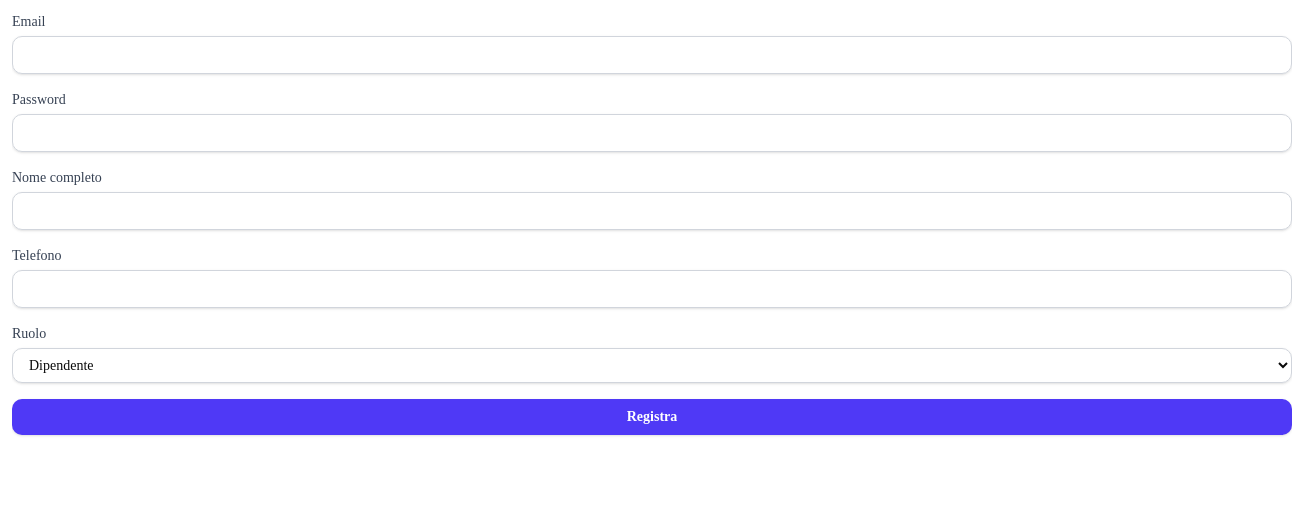
it: RegisterPage / RegisterForm › submit — success › shows a success banner after successful registration
The image size is (1304, 507).
Type "mario@example.com" into the field labelled "Email" at (652, 55), box [12,36,1292,74]
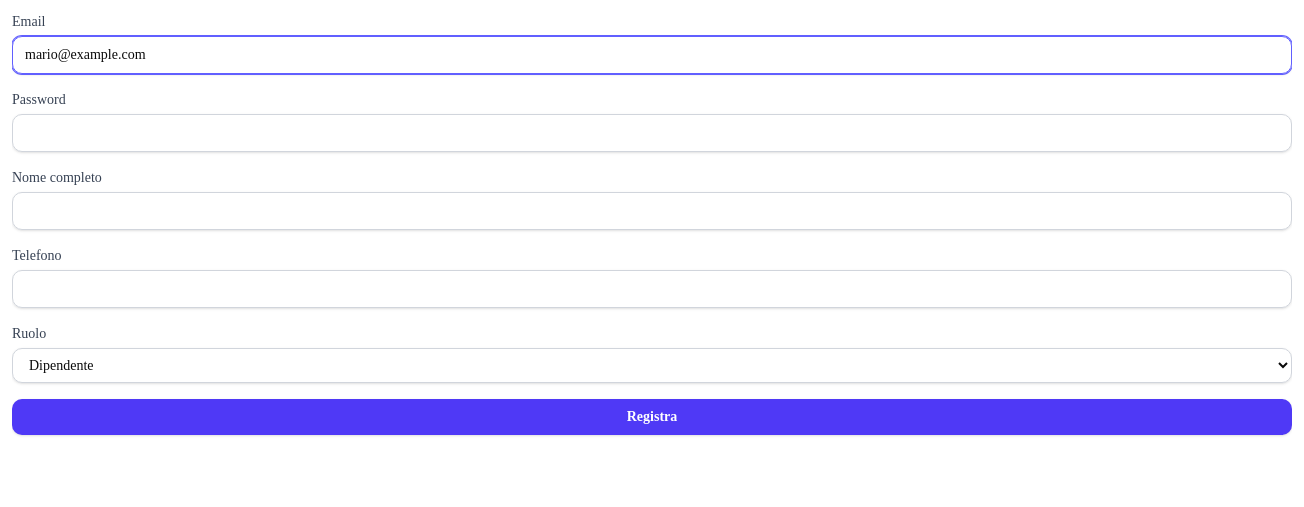
Type "password123" into the password field labelled "Password" at (652, 133), box [12,114,1292,152]
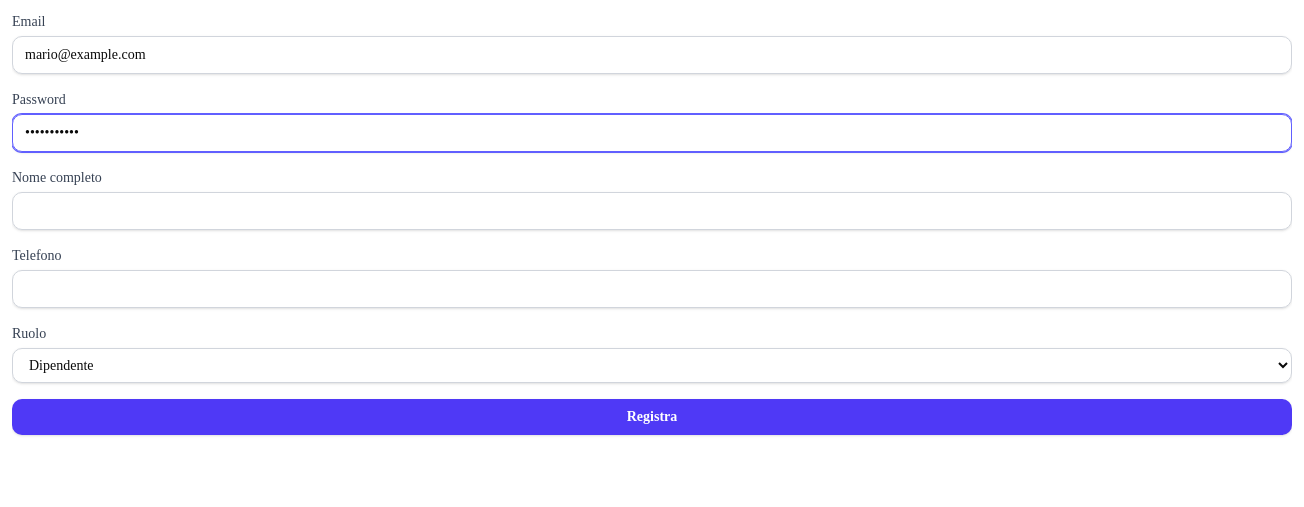
Type "Mario Rossi" into the field labelled "Nome completo" at (652, 211), box [12,192,1292,230]
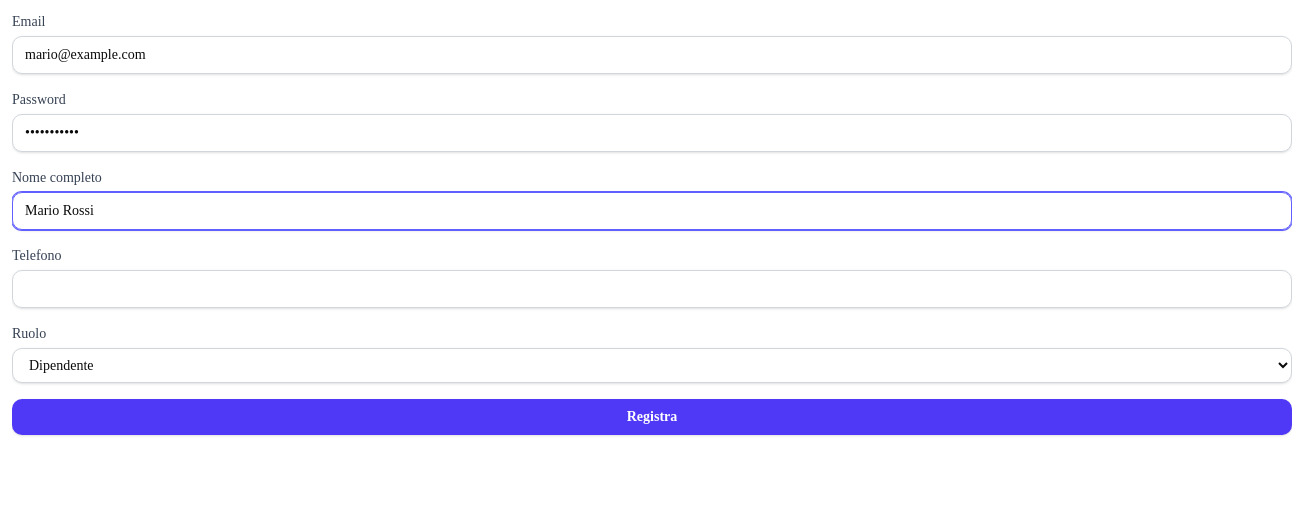
Type "3331234567" into the field labelled "Telefono" at (652, 289), box [12,270,1292,308]
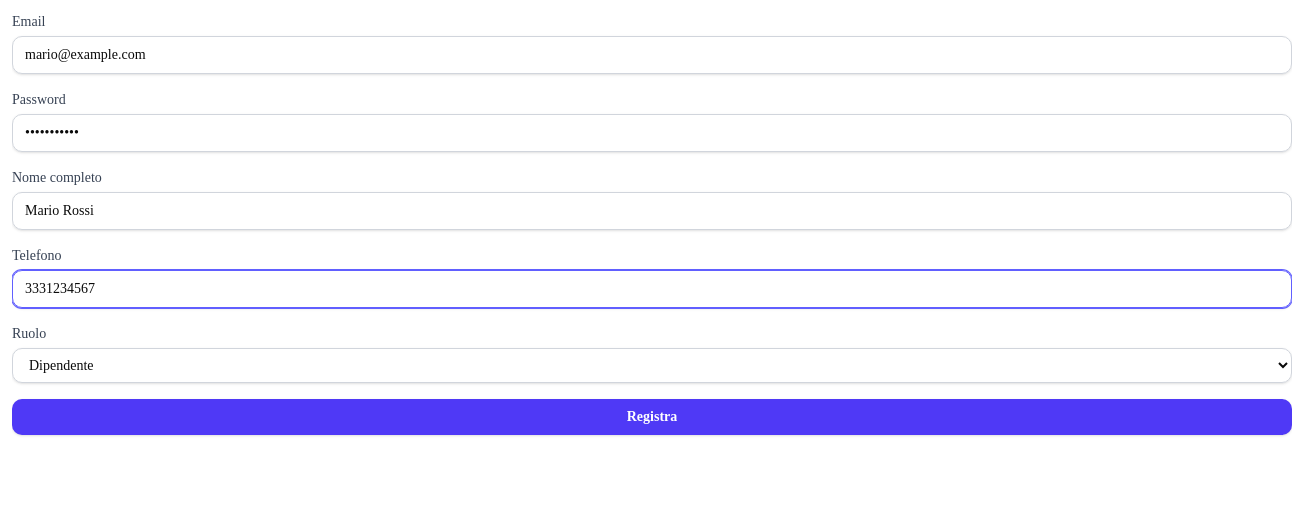
Click the button "Registra" at (652, 417), box [12,399,1292,435]
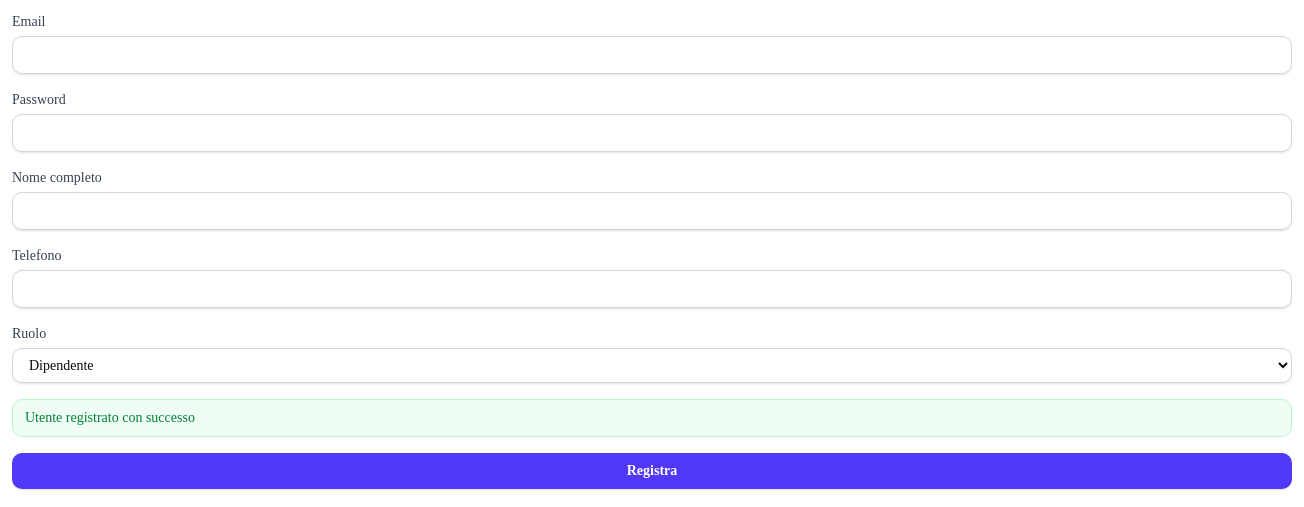
expect the message "Utente registrato con successo" is shown: met, box [12,399,1292,437]
